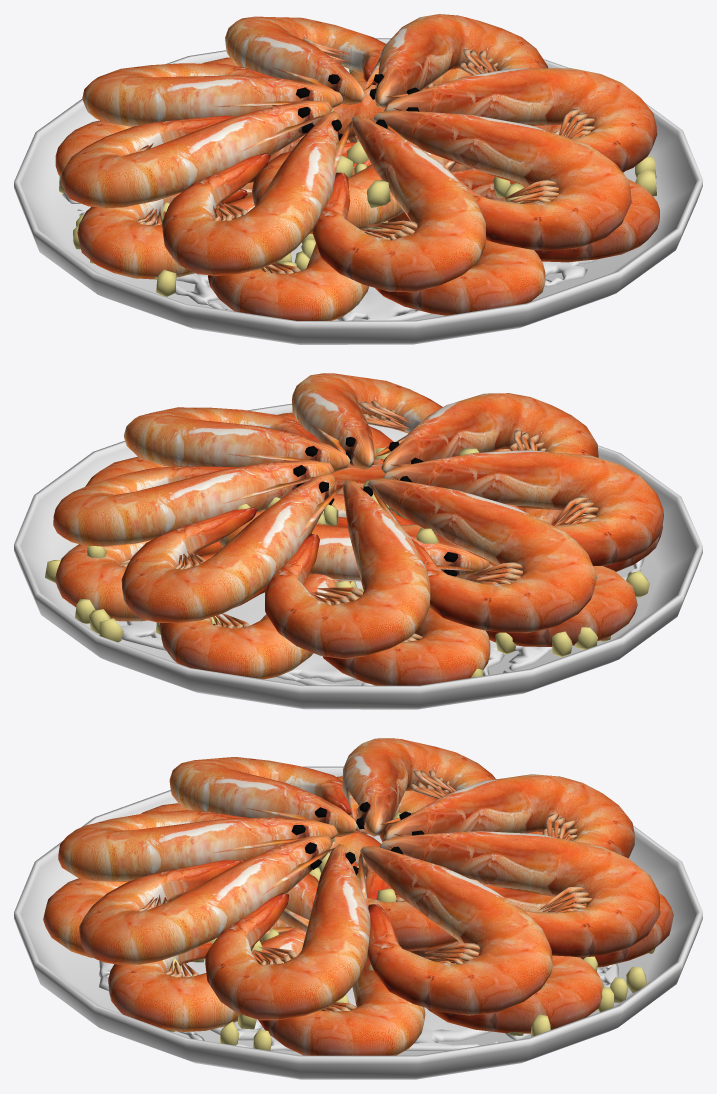
File: L2_KR_Shrimp.fbx
3 views of the same model, one above another, from view 1: azimuth 30°, elevation 25°; view 2: azimuth 150°, elevation 25°; view 3: azimuth 270°, elevation 25° (orthographic).
Visible parts, largest first — view 1: Shrimp, Plate.004, Garlic, Sauce; view 2: Shrimp, Plate.004, Garlic, Sauce; view 3: Shrimp, Plate.004, Sauce, Garlic.
Part boxes in pixels (x1,y1,x2,y2): Shrimp: (55,14,659,320); Plate.004: (14,38,702,344); Garlic: (59,69,656,296); Sauce: (62,193,596,320); Shrimp: (53,373,663,685); Plate.004: (14,403,702,709); Garlic: (45,447,649,677); Sauce: (120,557,644,685); Shrimp: (43,738,673,1055); Plate.004: (14,766,702,1079); Sauce: (99,834,618,1051); Garlic: (166,812,655,1055).
Size of the model in its own units: 0.25 by 0.0539 by 0.25.
4 materials, 1 textured.
